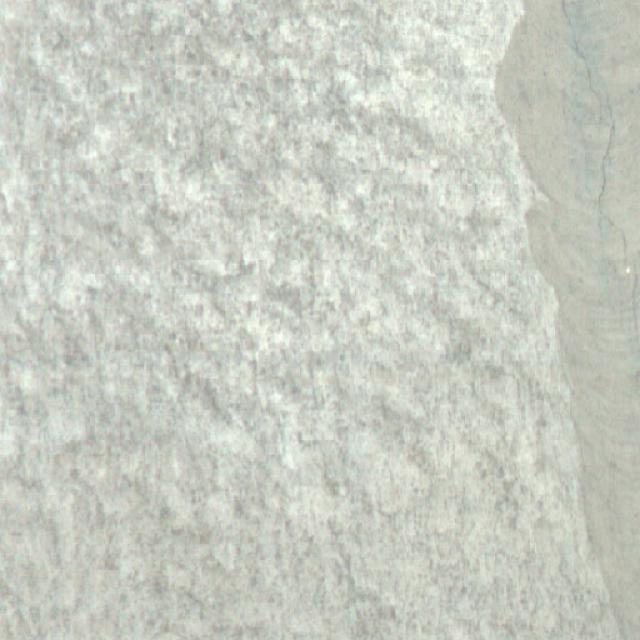Longitudinal: (541, 0, 640, 284)
